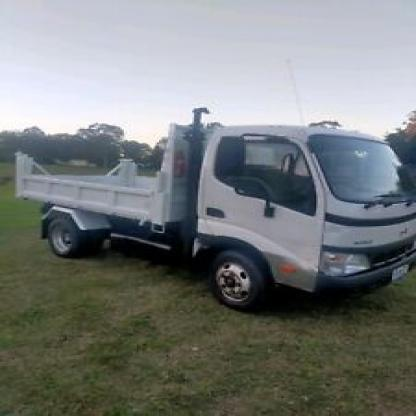dump_truck: (11, 111, 414, 316)
